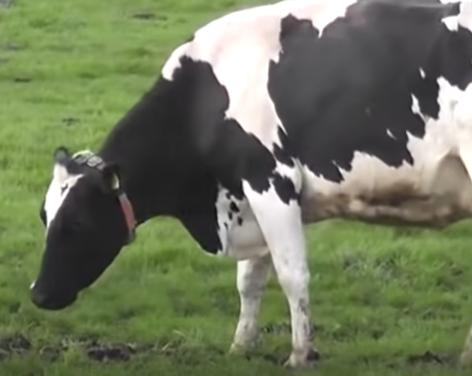cow: (29, 0, 472, 364)
